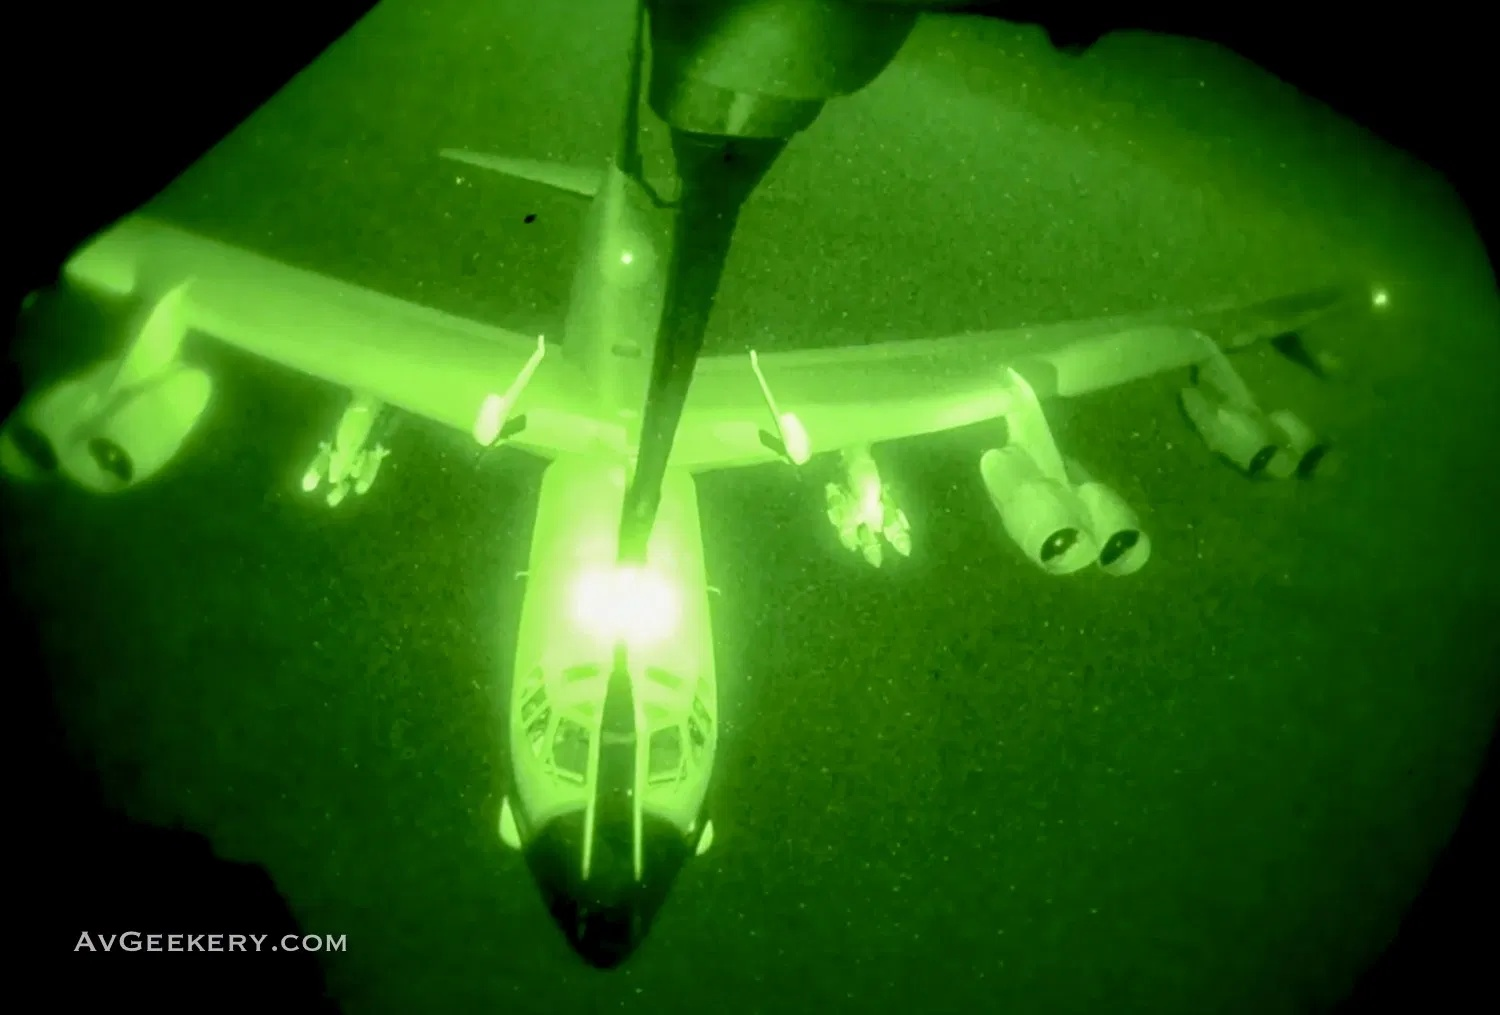B52: (1, 1, 1389, 971)
